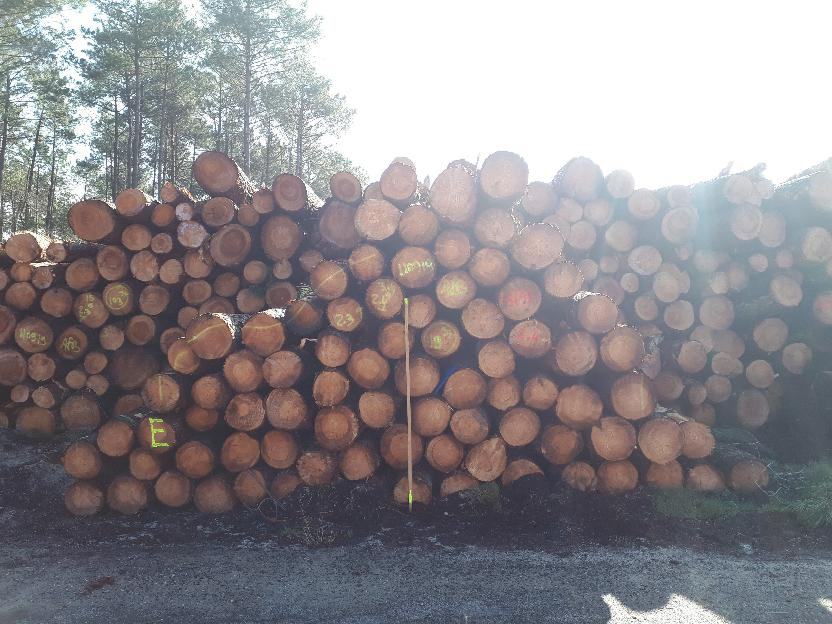etalon: (402, 298, 418, 512)
object: (433, 166, 477, 224), (608, 372, 658, 420), (513, 223, 561, 271), (184, 314, 232, 361), (552, 330, 598, 376), (66, 198, 114, 242), (556, 380, 600, 428), (479, 153, 527, 197), (108, 349, 158, 391), (318, 202, 362, 249), (382, 424, 424, 472), (209, 224, 253, 268), (460, 298, 506, 340), (444, 369, 490, 411), (592, 417, 637, 459), (359, 199, 401, 243), (393, 247, 435, 291), (364, 278, 406, 322), (496, 278, 538, 322), (576, 294, 620, 336), (241, 314, 283, 358), (263, 388, 307, 430), (316, 408, 360, 450), (346, 350, 392, 390), (392, 357, 438, 397), (218, 434, 264, 472), (195, 152, 236, 194), (465, 437, 503, 482), (437, 268, 477, 310), (500, 406, 540, 448), (640, 420, 682, 460), (470, 250, 514, 288), (603, 326, 641, 370), (221, 351, 264, 389), (541, 424, 581, 464), (474, 208, 516, 246), (10, 314, 52, 352), (260, 349, 302, 387), (397, 207, 441, 243), (509, 322, 550, 360), (750, 315, 790, 353), (138, 374, 178, 412), (224, 389, 262, 429), (64, 479, 104, 517), (564, 159, 602, 199), (4, 230, 46, 266), (264, 215, 298, 259), (413, 398, 452, 436), (193, 476, 232, 514), (434, 229, 470, 270), (483, 374, 524, 410), (64, 442, 102, 480), (106, 476, 144, 514), (380, 162, 416, 202), (376, 322, 416, 358), (262, 430, 298, 470), (729, 458, 769, 494), (676, 421, 713, 458), (544, 262, 582, 298), (701, 296, 739, 332), (427, 437, 465, 473), (337, 444, 375, 480), (271, 172, 305, 212), (310, 260, 344, 300), (190, 378, 230, 412), (176, 442, 214, 477), (598, 459, 638, 492), (282, 300, 318, 336), (423, 322, 459, 358), (96, 420, 132, 456), (199, 196, 237, 230), (520, 376, 558, 410), (19, 406, 57, 440), (70, 296, 110, 328), (476, 342, 516, 374), (94, 244, 130, 278), (64, 258, 100, 292), (100, 280, 134, 316), (326, 296, 362, 330), (452, 411, 488, 445), (156, 472, 190, 508), (781, 341, 813, 379), (502, 454, 540, 486), (558, 462, 598, 492), (61, 396, 96, 430), (167, 338, 200, 374), (661, 206, 698, 238), (738, 386, 766, 428), (520, 182, 554, 216), (314, 334, 348, 368), (313, 370, 347, 404), (138, 419, 172, 453), (758, 212, 786, 252), (772, 274, 800, 314), (359, 394, 393, 426), (326, 173, 362, 203), (626, 245, 662, 275), (804, 225, 826, 274), (296, 454, 334, 482), (728, 206, 760, 239), (235, 468, 264, 504), (662, 298, 694, 330), (41, 284, 71, 318), (645, 460, 679, 490), (394, 478, 430, 506), (687, 465, 724, 491), (628, 189, 658, 221), (351, 245, 381, 277), (714, 331, 746, 361), (676, 340, 706, 372), (129, 450, 161, 480), (7, 277, 35, 311), (404, 294, 432, 328), (270, 472, 300, 502), (686, 321, 715, 352), (114, 188, 146, 216), (126, 314, 154, 346), (139, 284, 168, 314), (608, 219, 636, 250), (184, 405, 218, 430), (266, 281, 295, 310), (120, 223, 150, 251), (182, 247, 210, 277), (722, 262, 752, 290), (175, 221, 207, 247), (235, 286, 264, 314), (442, 476, 475, 500), (651, 272, 679, 300), (722, 176, 748, 206), (566, 222, 596, 248), (130, 252, 156, 282), (30, 351, 56, 381), (702, 374, 730, 401), (61, 328, 84, 360), (606, 170, 632, 198), (156, 258, 184, 284), (182, 280, 210, 306), (652, 374, 680, 400), (711, 351, 741, 375), (554, 198, 583, 222), (211, 271, 237, 297), (632, 294, 658, 320), (80, 349, 108, 373), (158, 327, 184, 352), (250, 187, 274, 213), (746, 360, 770, 386), (6, 382, 32, 406), (31, 384, 57, 408), (200, 297, 234, 315), (773, 248, 795, 274), (243, 260, 265, 286), (98, 327, 124, 349), (114, 392, 140, 414), (746, 250, 768, 274), (362, 183, 388, 203), (694, 249, 716, 272), (49, 240, 67, 268), (173, 306, 199, 325), (300, 250, 324, 270), (32, 267, 52, 291), (86, 374, 108, 395), (154, 203, 174, 225), (236, 204, 258, 224), (598, 254, 620, 274), (10, 262, 32, 282), (684, 384, 706, 404), (668, 184, 686, 208), (151, 232, 170, 254), (692, 402, 714, 421), (66, 370, 86, 389), (274, 258, 292, 278), (158, 184, 176, 202), (174, 202, 192, 220), (578, 260, 596, 278), (622, 272, 637, 290)
pile: (61, 152, 770, 520)
